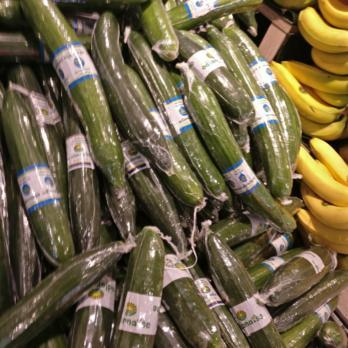Cucumber: (0, 0, 273, 346), (269, 249, 348, 348)
